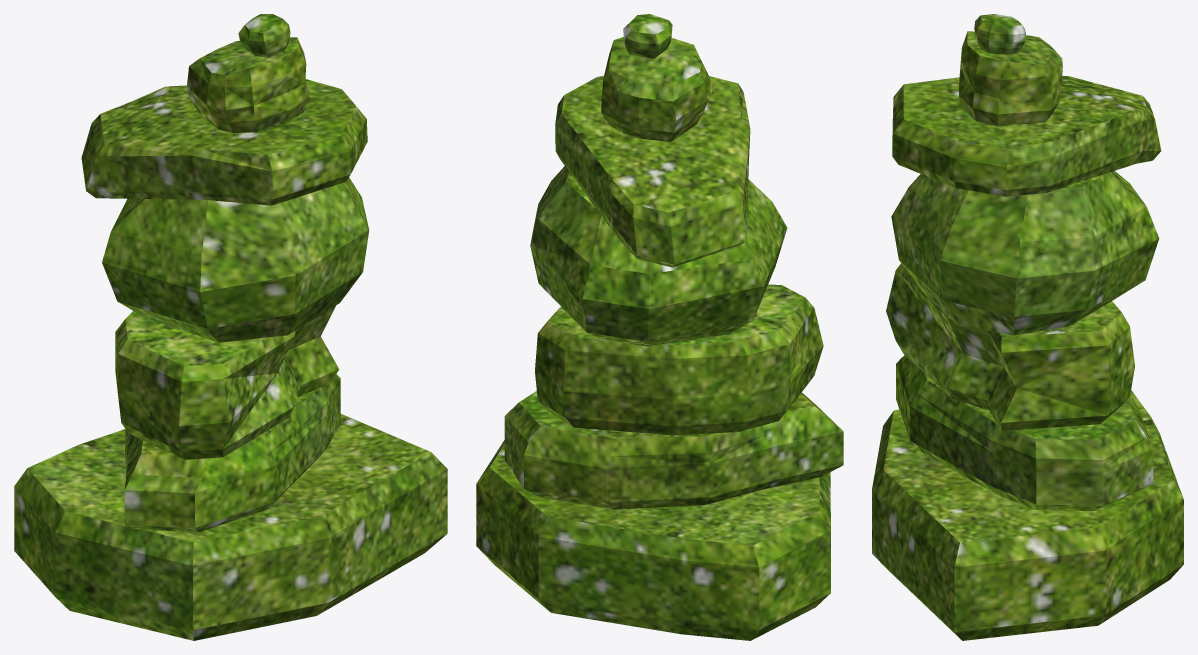
The model's file is cairn4.obj.
The picture shows the model from 3 angles, left to right: view 1: azimuth 30°, elevation 25°; view 2: azimuth 150°, elevation 25°; view 3: azimuth 270°, elevation 25°; orthographic projection. The views are drawn at different scales.
Visible parts, largest first — view 1: Cube_Cube.001; view 2: Cube_Cube.001; view 3: Cube_Cube.001.
Part boxes in pixels (x1=…): Cube_Cube.001: x1=14, y1=14, x2=447, y2=640; Cube_Cube.001: x1=476, y1=14, x2=843, y2=640; Cube_Cube.001: x1=872, y1=14, x2=1183, y2=640.
Size of the model in its own units: 6.24 by 9.19 by 4.69.
